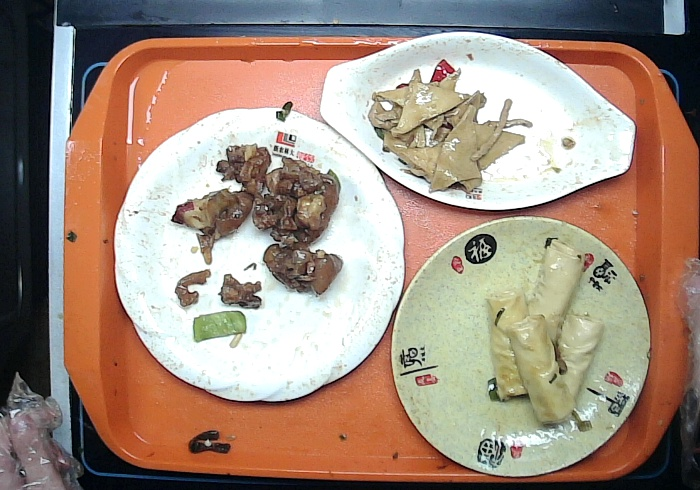NLDX-Bai_Zhe_Yuan_Pan: (108, 104, 406, 405)
NLDX-Fu_Zi_Yuan_Pan: (384, 211, 654, 480)
NLDX-Yu_Pan: (316, 26, 640, 217)
